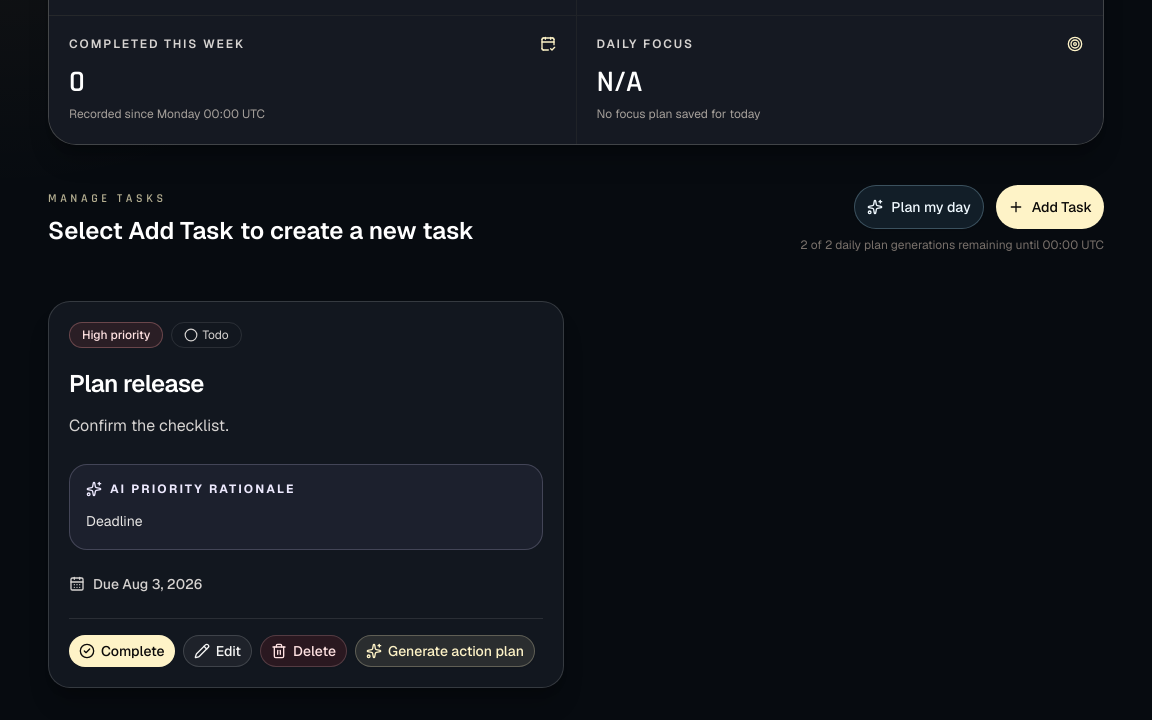
it: dashboard lifecycle failure state › announces rejected completion generation without rendering output
(page scrolled)
What coordinates should you click on to do the following:
click the button "Generate action plan"
I would click on:
 (445, 651)
Its box is [355,635,535,667].
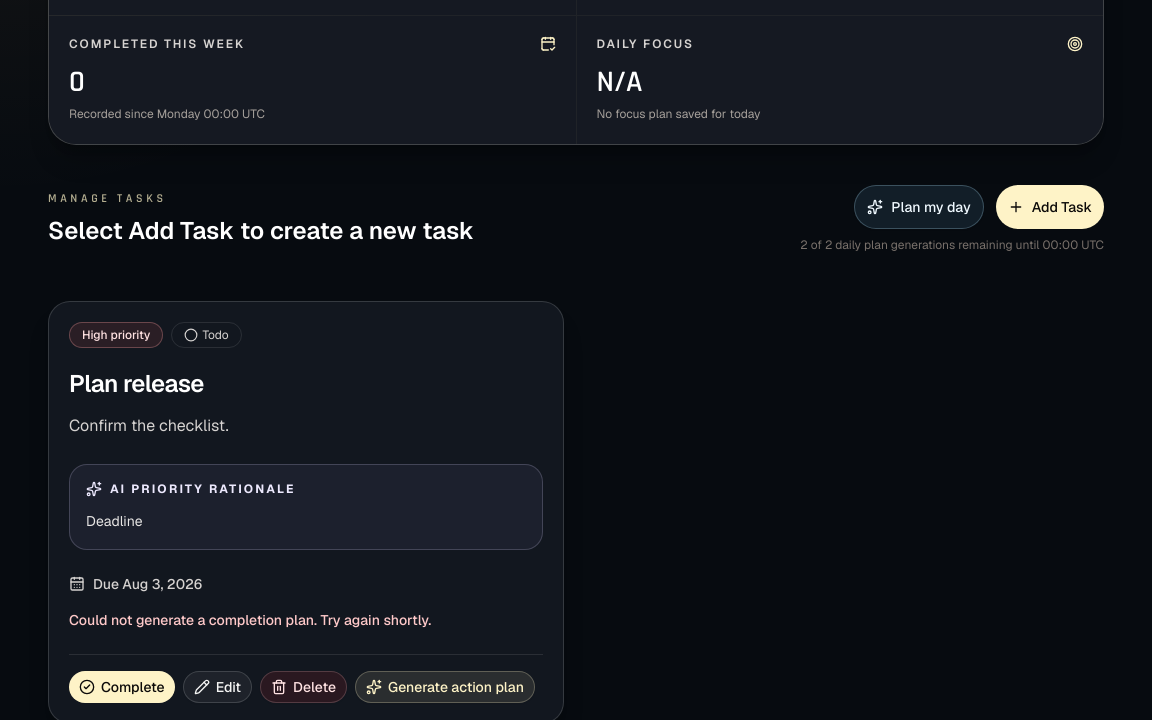
Expected: the button "Generate action plan" is enabled, [355,671,535,703]
Expected: the message reads "Could not generate a completion plan. Try again shortly.", [69,611,431,629]
